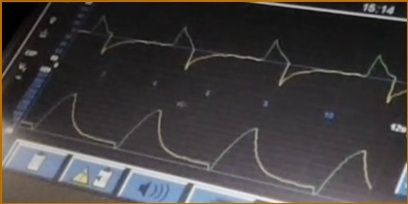Flow: (81, 12, 408, 103)
Leakage Volume: (22, 92, 373, 197)
